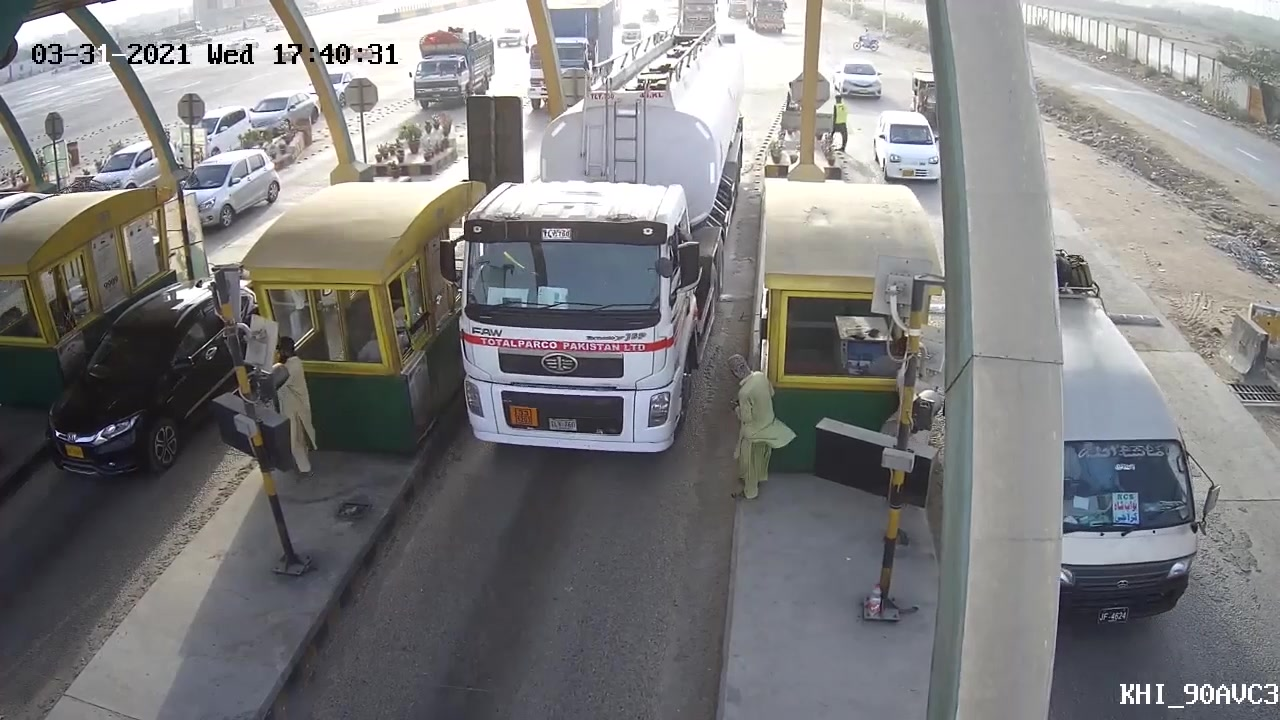F6: (447, 36, 739, 490)
